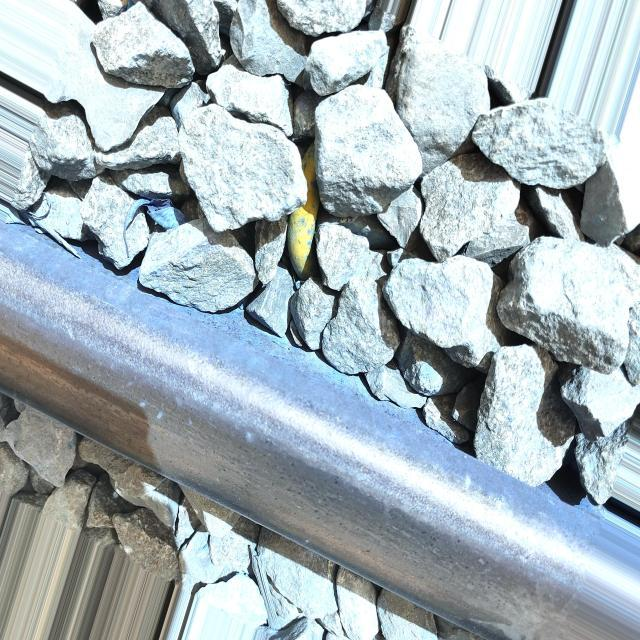Good Fasteners: (287, 144, 320, 279)
